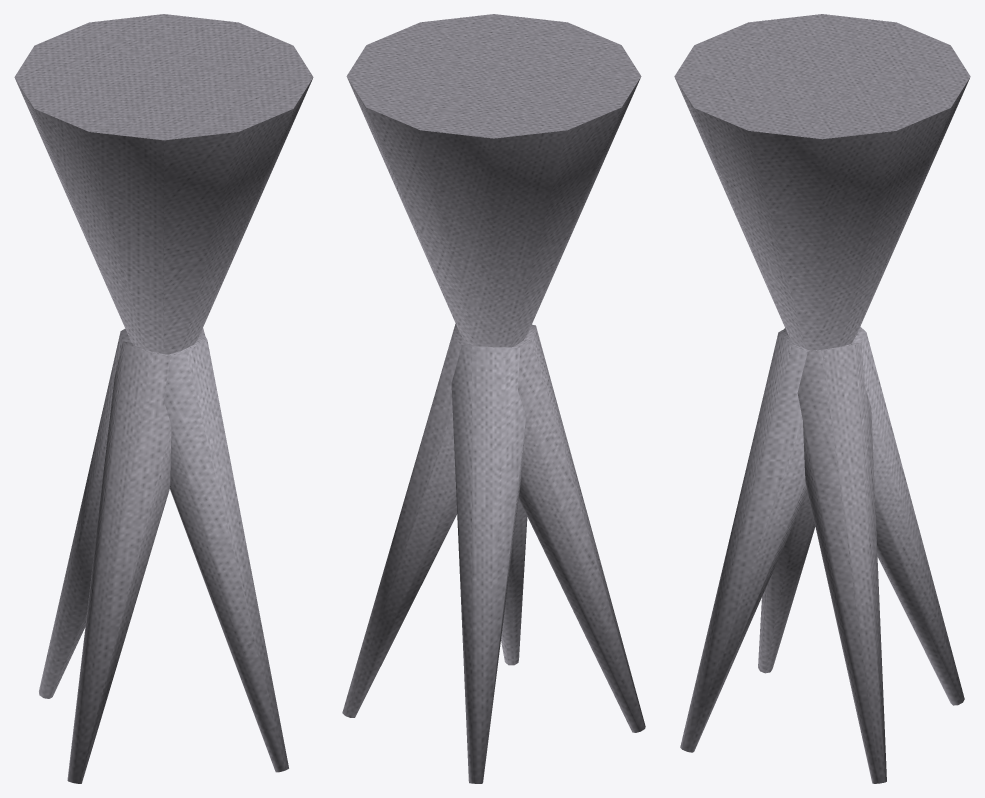
The model's file is forget_tip.glb.
3 views of the same model, side by side, from view 1: azimuth 30°, elevation 25°; view 2: azimuth 150°, elevation 25°; view 3: azimuth 270°, elevation 25° (orthographic).
Parts seen in each view (by area): view 1: forget_tip; view 2: forget_tip; view 3: forget_tip.
Part boxes in pixels (x1,y1,x2,y2): forget_tip: (14,14,313,783); forget_tip: (342,14,645,783); forget_tip: (674,14,970,783).
Bounding box in the file's own units: 0.16 × 0.3878 × 0.16.
Materials: 2 (2 with a texture image).
